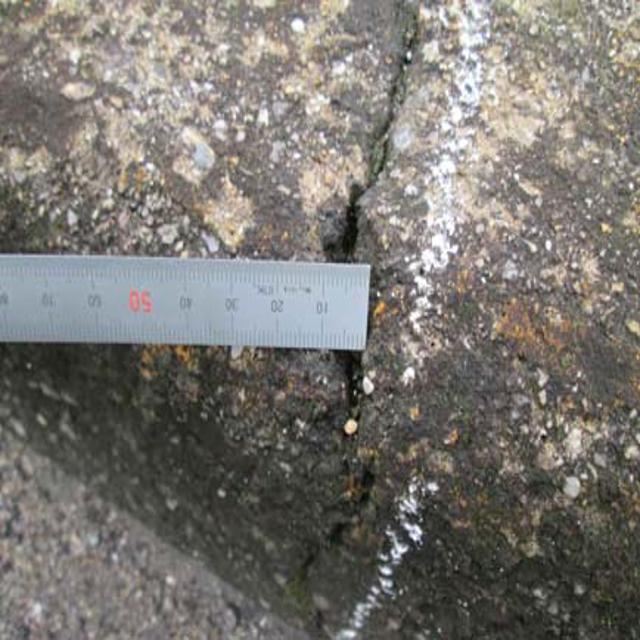crack: (327, 10, 432, 287), (310, 347, 377, 577)
